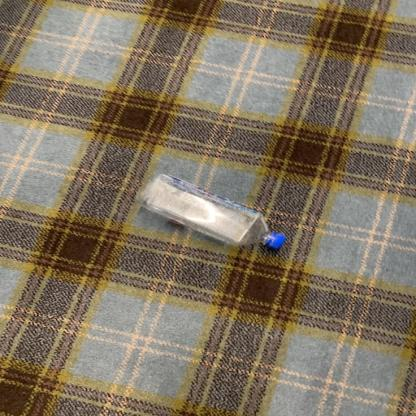trash: (138, 174, 290, 251)
